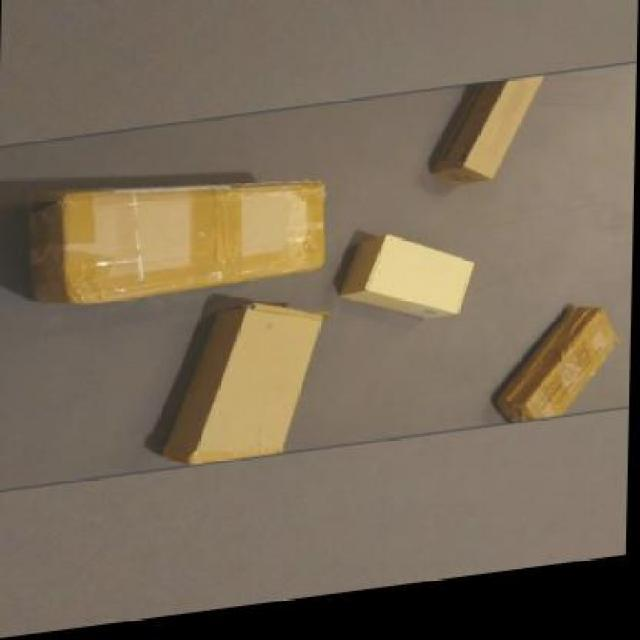box: (28, 162, 328, 312), (164, 302, 330, 472), (498, 322, 622, 438), (343, 237, 480, 341), (434, 88, 550, 198)
